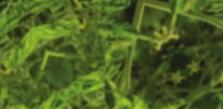Tomato leaf mosaic virus: (30, 3, 82, 48), (87, 0, 142, 24), (16, 0, 66, 20)
